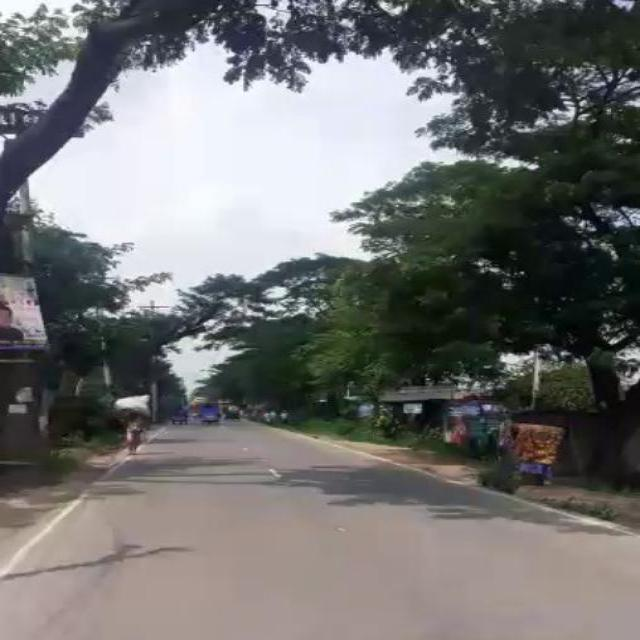rickshaw: (491, 416, 558, 482)
